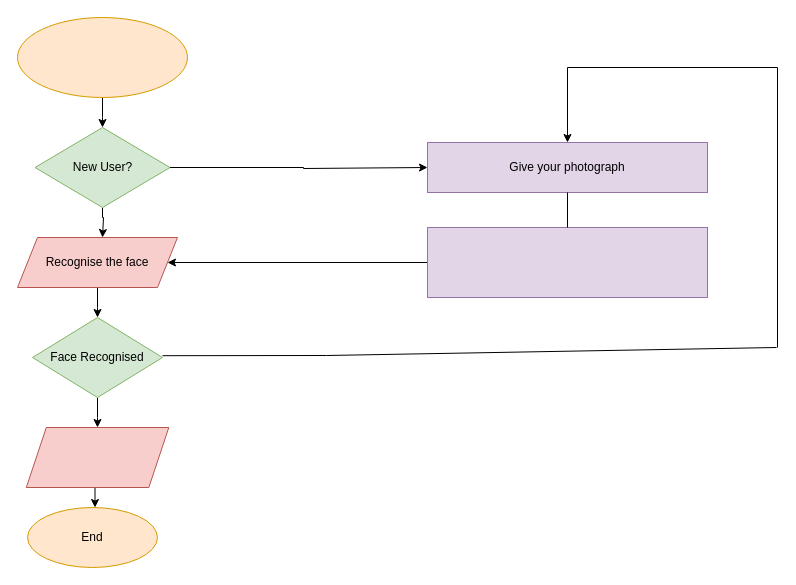
Image size: 796x585. Some labels were removed from this diagram. Here are the shapes that lost their labels. From the top down, the centre of each, then its label:
pixel 102 57: Start
pixel 567 262: Store the face data in floder on your name
pixel 97 457: Stored in csv file with registration number and date time of entry
